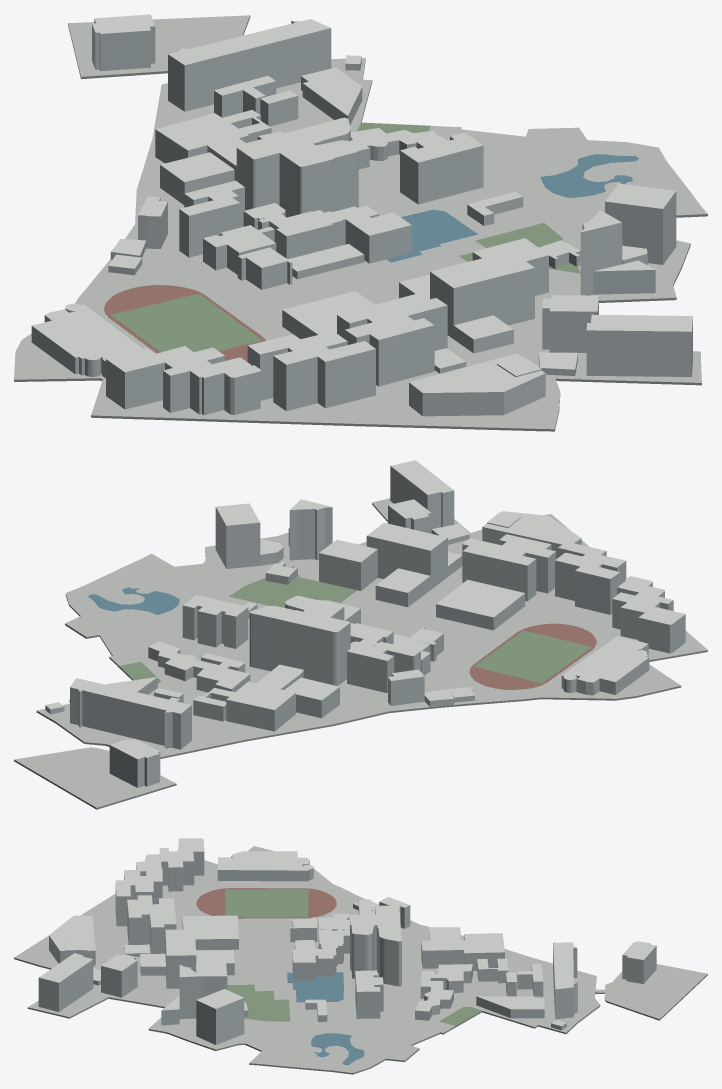
File: kmutt-bangmod.glb
The picture shows the model from 3 angles, top to bottom: view 1: azimuth 30°, elevation 25°; view 2: azimuth 150°, elevation 25°; view 3: azimuth 270°, elevation 25°; orthographic projection. The views are drawn at different scales.
Visible parts, largest first — view 1: ขอบเขตวิทยาเขตบางมด, N7 | Fundamental Science Laboratory, N16 | Learning Exchange (LX), S13 | Classroom Building 3, S12 | Classroom Building 4, S11 | Classroom Building 5 (CB5), N17 | Classroom Building 2, S6 | Dhammaraksa Residence Hall 1, S4 | Wissawa Wattana – 11 floors, S9 | Energy, Environment and Materials, สนามกีฬา, N2 | Office of the President (+25 smaller); view 2: ขอบเขตวิทยาเขตบางมด, N16 | Learning Exchange (LX), N7 | Fundamental Science Laboratory, S11 | Classroom Building 5 (CB5), S13 | Classroom Building 3, S12 | Classroom Building 4, S4 | Wissawa Wattana – 11 floors, S14 | King Mongkut 190th Anniversary Memorial, สนามกีฬา, N10 | KMUTT Library, S15 | Chemical Engineering, N2 | Office of the President (+20 smaller); view 3: ขอบเขตวิทยาเขตบางมด, N16 | Learning Exchange (LX), N7 | Fundamental Science Laboratory, S14 | King Mongkut 190th Anniversary Memorial, สนามกีฬา, N10 | KMUTT Library, S6 | Dhammaraksa Residence Hall 1, S2 | Parking Building, S11 | Classroom Building 5 (CB5), S13 | Classroom Building 3, N17 | Classroom Building 2, S15 | Chemical Engineering (+23 smaller).
Boxes of the visible parts, x1,y1,x2,y2 form: ขอบเขตวิทยาเขตบางมด: [14, 15, 707, 431]; N7 | Fundamental Science Laboratory: [168, 19, 362, 124]; N16 | Learning Exchange (LX): [236, 117, 358, 217]; S13 | Classroom Building 3: [106, 346, 260, 415]; S12 | Classroom Building 4: [247, 331, 375, 411]; S11 | Classroom Building 5 (CB5): [337, 293, 447, 386]; N17 | Classroom Building 2: [243, 203, 411, 263]; S6 | Dhammaraksa Residence Hall 1: [586, 314, 692, 376]; S4 | Wissawa Wattana – 11 floors: [430, 251, 534, 338]; S9 | Energy, Environment and Materials: [409, 353, 545, 416]; สนามกีฬา: [110, 293, 262, 352]; N2 | Office of the President: [400, 132, 483, 204]; ขอบเขตวิทยาเขตบางมด: [14, 498, 707, 809]; N16 | Learning Exchange (LX): [249, 596, 350, 685]; N7 | Fundamental Science Laboratory: [70, 677, 191, 749]; S11 | Classroom Building 5 (CB5): [462, 534, 555, 601]; S13 | Classroom Building 3: [612, 576, 685, 653]; S12 | Classroom Building 4: [555, 541, 626, 614]; S4 | Wissawa Wattana – 11 floors: [366, 522, 447, 589]; S14 | King Mongkut 190th Anniversary Memorial: [561, 636, 649, 695]; สนามกีฬา: [474, 630, 591, 683]; N10 | KMUTT Library: [226, 664, 303, 731]; S15 | Chemical Engineering: [436, 579, 525, 630]; N2 | Office of the President: [182, 595, 248, 648]; ขอบเขตวิทยาเขตบางมด: [14, 846, 707, 1074]; N16 | Learning Exchange (LX): [350, 906, 401, 986]; N7 | Fundamental Science Laboratory: [476, 942, 577, 1019]; S14 | King Mongkut 190th Anniversary Memorial: [217, 851, 313, 881]; สนามกีฬา: [225, 889, 308, 917]; N10 | KMUTT Library: [421, 933, 504, 970]; S6 | Dhammaraksa Residence Hall 1: [38, 953, 93, 1011]; S2 | Parking Building: [196, 989, 244, 1044]; S11 | Classroom Building 5 (CB5): [127, 895, 176, 953]; S13 | Classroom Building 3: [136, 838, 204, 891]; N17 | Classroom Building 2: [292, 928, 349, 980]; S15 | Chemical Engineering: [182, 915, 238, 949].
Bounding box in the file's own units: 585 × 55.8 × 755.
